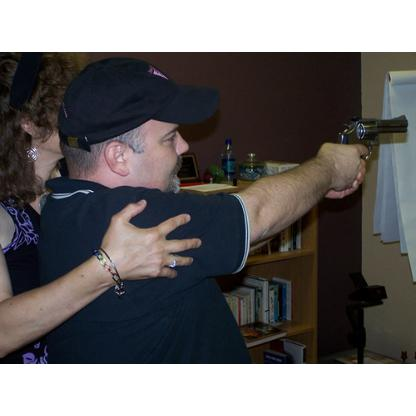gun: (325, 112, 409, 192)
